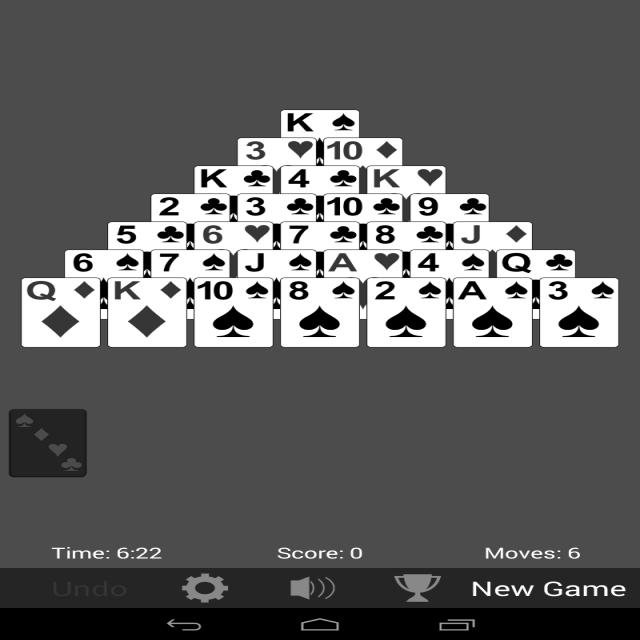ImageView: (24, 96, 621, 358), (13, 408, 104, 486), (281, 573, 344, 607), (389, 568, 443, 604), (178, 573, 233, 605)
TextView: (464, 576, 633, 602), (476, 539, 591, 564), (49, 544, 173, 562), (50, 573, 133, 599)
